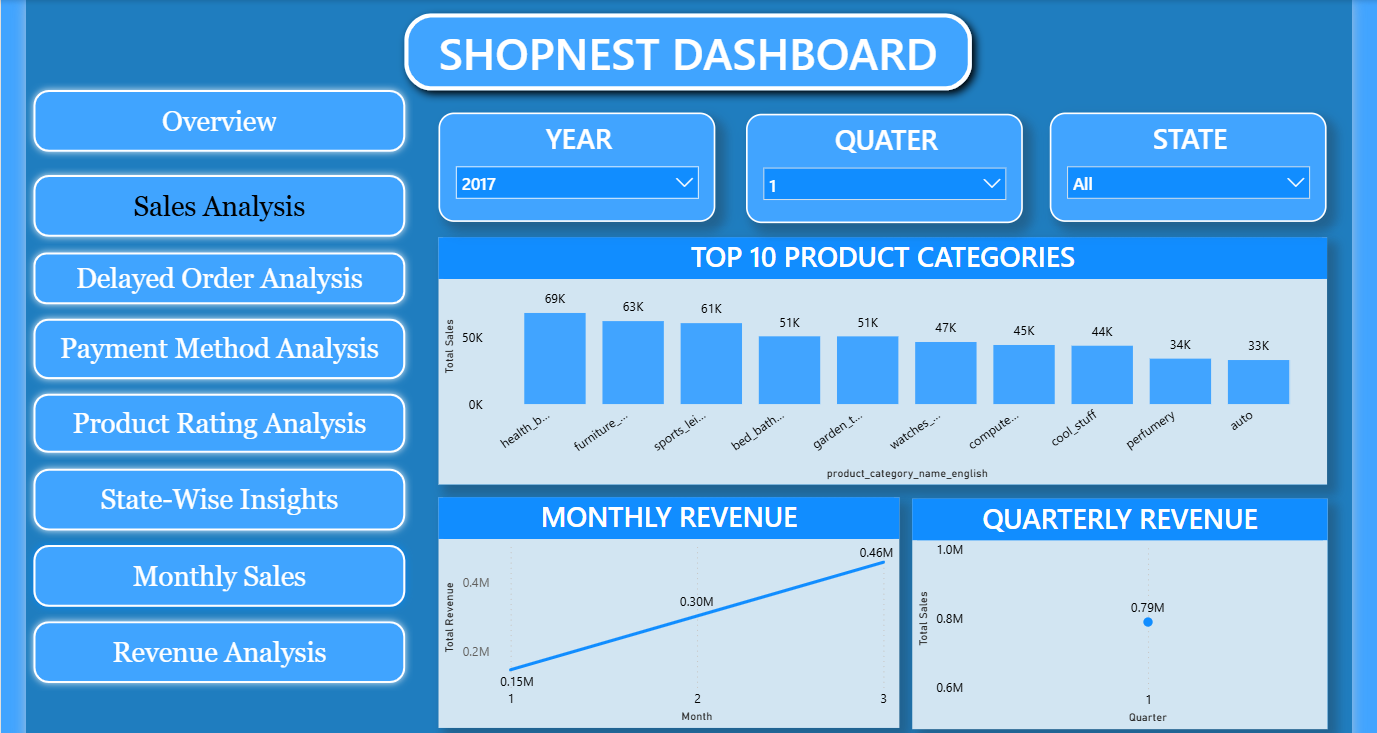

Layout of this report page (visuals, bound fields, positions):
{"tool":"powerbi","page":{"name":"Sales Analysis","canvas":[1280,720],"ordinal":1},"visuals":[{"type":"shape","box":[352.7,0,573.6,100.2],"z":0},{"type":"clusteredColumnChart","title":"TOP 10 PRODUCT CATEGORIES","fields":{"Y":["Calculated Measures.Total Sales"],"Category":["product_dataset.product_category_name_english"]},"box":[397.9,229.2,857.6,238.8],"z":1000},{"type":"slicer","title":"YEAR","fields":{"Values":["orders_dataset.Year"]},"box":[397.9,108.4,267.6,105.7],"z":2000},{"type":"slicer","title":"QUATER","fields":{"Values":["orders_dataset.Quarter"]},"box":[694.3,109.8,267.6,105.7],"z":3000},{"type":"slicer","title":"STATE","fields":{"Values":["orders_dataset.state"]},"box":[988,108.4,267.6,105.7],"z":4000},{"type":"lineChart","title":"MONTHLY REVENUE","fields":{"Category":["orders_dataset.Month"],"Y2":["Calculated Measures.Total Revenue"]},"box":[397.9,480.3,444.6,222.3],"z":5000},{"type":"lineChart","title":"QUARTERLY REVENUE","fields":{"Y":["Calculated Measures.Total Sales"],"Category":["orders_dataset.Quarter"]},"box":[854.9,481.6,400.7,222.3],"z":6000},{"type":"shape","box":[0,236,373.2,64.5],"z":7000},{"type":"shape","box":[0,161.9,373.2,74.1],"z":8000},{"type":"shape","box":[0,300.5,373.2,72.7],"z":9000},{"type":"shape","box":[0,444.6,373.2,74.1],"z":10000},{"type":"shape","box":[0,373.2,373.2,71.4],"z":11000},{"type":"shape","box":[0,592.8,373.2,74.1],"z":12000},{"type":"shape","box":[0,518.7,373.2,74.1],"z":13000},{"type":"shape","box":[0,79.6,373.2,74.1],"z":14000}]}

Visuals, with their boxes on the page's 1280x720 design canvas (x1, y1, x2, y2). These are canvas units, not pixel positions in the 1377x733 screenshot, which may show the page scaled, cropped or inside an application window:
shape: [353, 0, 926, 100]
"TOP 10 PRODUCT CATEGORIES" clusteredColumnChart: [398, 229, 1256, 468]
"YEAR" slicer: [398, 108, 666, 214]
"QUATER" slicer: [694, 110, 962, 216]
"STATE" slicer: [988, 108, 1256, 214]
"MONTHLY REVENUE" lineChart: [398, 480, 842, 703]
"QUARTERLY REVENUE" lineChart: [855, 482, 1256, 704]
shape: [0, 236, 373, 300]
shape: [0, 162, 373, 236]
shape: [0, 300, 373, 373]
shape: [0, 445, 373, 519]
shape: [0, 373, 373, 445]
shape: [0, 593, 373, 667]
shape: [0, 519, 373, 593]
shape: [0, 80, 373, 154]
